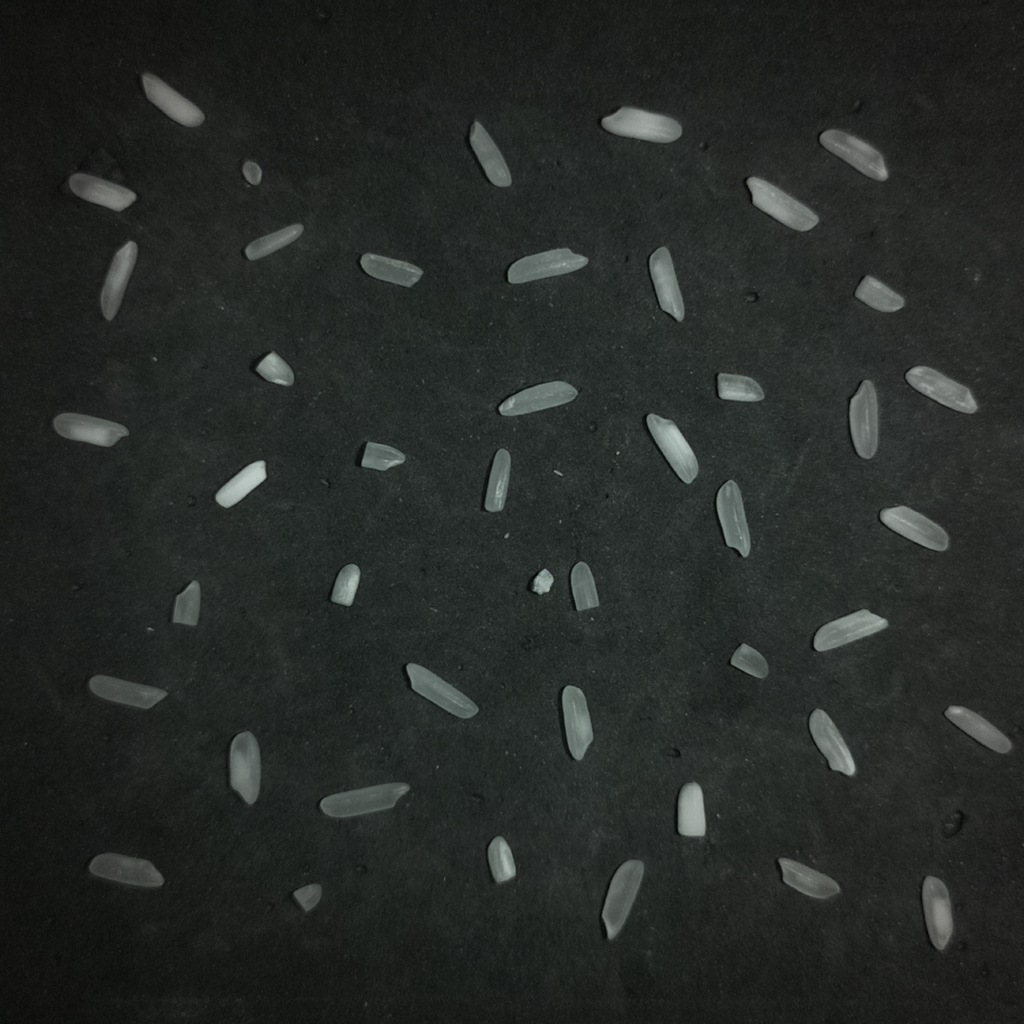broken: (360, 253, 422, 286), (855, 275, 904, 312), (570, 561, 599, 611), (255, 351, 293, 386), (730, 643, 768, 678), (361, 441, 405, 470), (292, 883, 322, 912), (241, 160, 262, 185)
chalky: (746, 177, 818, 231), (646, 413, 698, 483), (140, 73, 204, 127), (944, 705, 1012, 753), (602, 861, 643, 939), (813, 609, 887, 651), (879, 506, 948, 551), (100, 240, 137, 321), (600, 107, 681, 143), (68, 172, 136, 211), (649, 246, 684, 320), (215, 460, 267, 508), (52, 413, 127, 446), (229, 731, 260, 804), (677, 782, 705, 836), (717, 373, 764, 401), (330, 563, 360, 606)
foreign: (531, 569, 553, 594)
whole: (405, 663, 478, 718), (819, 129, 888, 181), (905, 366, 977, 413), (319, 782, 410, 818), (808, 709, 855, 775), (507, 248, 588, 283), (469, 121, 511, 187), (498, 381, 577, 415), (88, 675, 167, 709), (88, 852, 163, 887), (716, 479, 750, 556), (778, 858, 840, 899), (561, 686, 593, 760), (922, 876, 953, 951), (849, 381, 878, 458), (244, 224, 303, 260), (484, 449, 510, 511), (487, 835, 516, 883), (172, 580, 200, 626)
